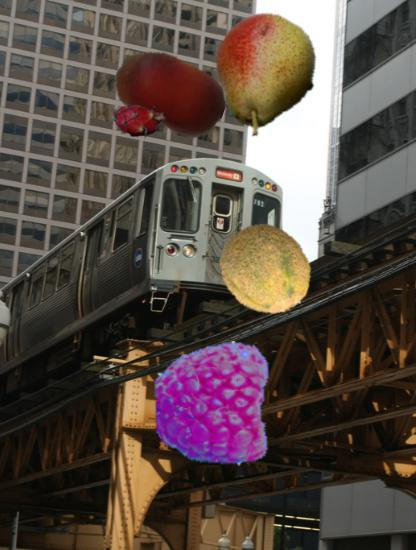Cantaloupe: (217, 221, 315, 319)
Nectarine: (113, 36, 228, 151)
Pear: (202, 12, 325, 135)
Pitahaya: (111, 93, 165, 147)
Raspberry: (150, 342, 275, 467)
